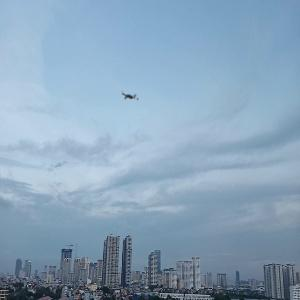drone: (97, 63, 171, 137)
